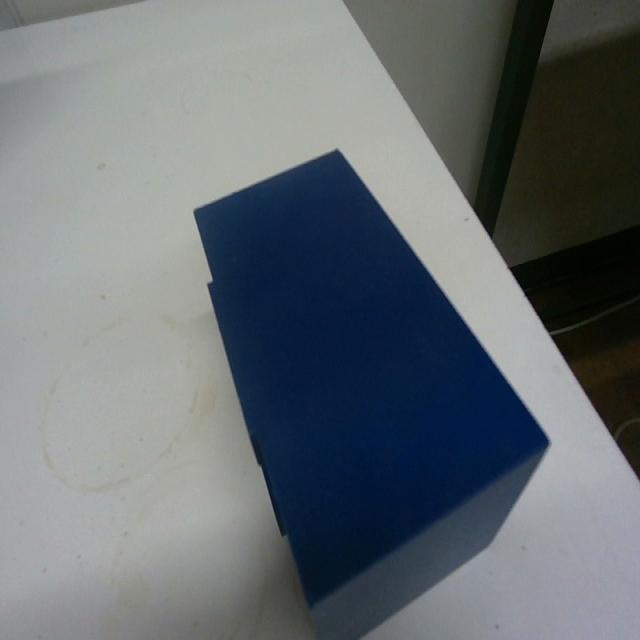Blue Cuboid: (191, 144, 551, 635)
